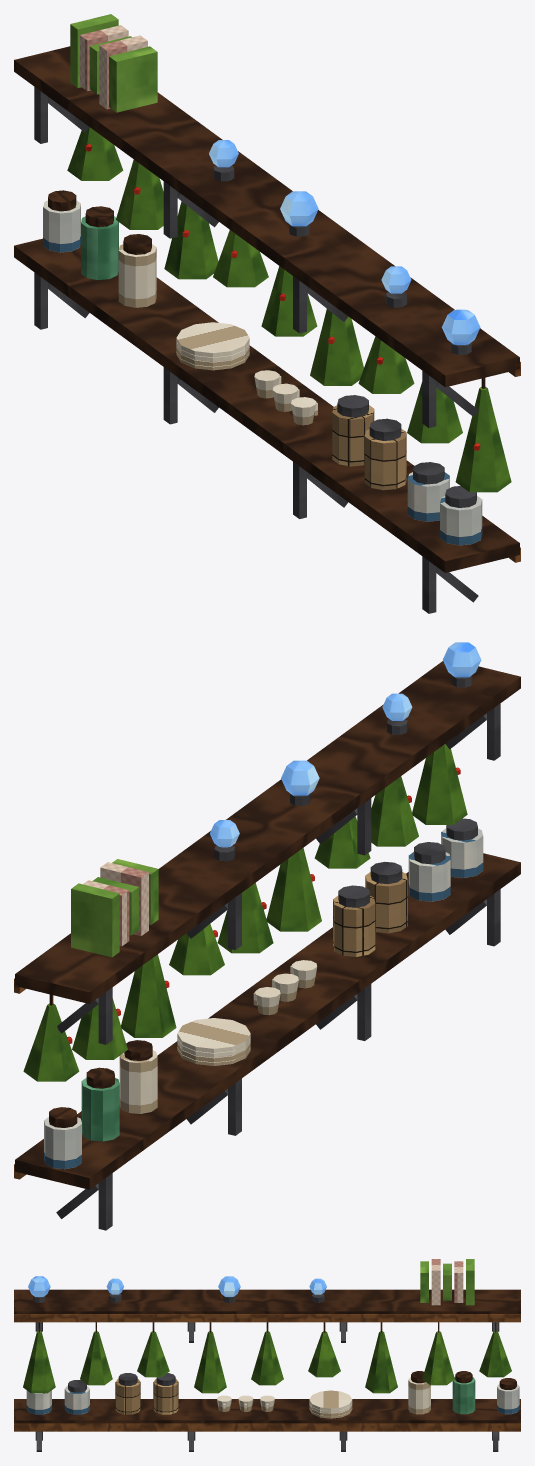
Rendered from shelf.glb.
3 views of the same model, one above another, from view 1: azimuth 30°, elevation 25°; view 2: azimuth 150°, elevation 25°; view 3: azimuth 270°, elevation 25° (orthographic). The views are drawn at different scales.
Visible parts, largest first — view 1: shelf__K_darkwood, shelf__K_herb, shelf__K_iron, shelf__K_cream, shelf__K_ceramic, shelf__K_cabbage, shelf__K_tile, shelf__K_magic, shelf__K_cloth, shelf__K_bottle; view 2: shelf__K_darkwood, shelf__K_herb, shelf__K_iron, shelf__K_cream, shelf__K_ceramic, shelf__K_cabbage, shelf__K_tile, shelf__K_magic, shelf__K_cloth, shelf__K_bottle; view 3: shelf__K_darkwood, shelf__K_herb, shelf__K_oak, shelf__K_cream, shelf__K_iron, shelf__K_ceramic, shelf__K_tile, shelf__K_magic, shelf__K_cabbage, shelf__K_cloth, shelf__K_bottle.
Boxes of the visible parts, x1=… form: shelf__K_darkwood: x1=14, y1=46, x2=519, y2=572; shelf__K_herb: x1=67, y1=127, x2=511, y2=492; shelf__K_iron: x1=34, y1=87, x2=478, y2=613; shelf__K_cream: x1=118, y1=244, x2=317, y2=425; shelf__K_ceramic: x1=43, y1=200, x2=482, y2=545; shelf__K_cabbage: x1=70, y1=14, x2=157, y2=112; shelf__K_tile: x1=332, y1=405, x2=406, y2=490; shelf__K_magic: x1=209, y1=140, x2=480, y2=344; shelf__K_cloth: x1=80, y1=25, x2=147, y2=109; shelf__K_bottle: x1=81, y1=216, x2=118, y2=279; shelf__K_darkwood: x1=15, y1=661, x2=520, y2=1189; shelf__K_herb: x1=23, y1=744, x2=467, y2=1081; shelf__K_iron: x1=56, y1=675, x2=500, y2=1230; shelf__K_cream: x1=119, y1=960, x2=317, y2=1113; shelf__K_ceramic: x1=44, y1=828, x2=483, y2=1169; shelf__K_cabbage: x1=71, y1=859, x2=158, y2=957; shelf__K_tile: x1=333, y1=872, x2=407, y2=956; shelf__K_magic: x1=210, y1=642, x2=481, y2=847; shelf__K_cloth: x1=83, y1=862, x2=148, y2=946; shelf__K_bottle: x1=81, y1=1077, x2=119, y2=1141; shelf__K_darkwood: x1=14, y1=1289, x2=520, y2=1423; shelf__K_herb: x1=23, y1=1331, x2=511, y2=1393; shelf__K_oak: x1=14, y1=1314, x2=520, y2=1431; shelf__K_cream: x1=217, y1=1377, x2=430, y2=1418; shelf__K_iron: x1=33, y1=1293, x2=499, y2=1451; shelf__K_ceramic: x1=26, y1=1383, x2=519, y2=1414; shelf__K_tile: x1=115, y1=1378, x2=178, y2=1414; shelf__K_magic: x1=28, y1=1276, x2=326, y2=1296; shelf__K_cabbage: x1=420, y1=1259, x2=474, y2=1305; shelf__K_cloth: x1=431, y1=1259, x2=463, y2=1305; shelf__K_bottle: x1=452, y1=1377, x2=475, y2=1414.
Bounding box in the file's own units: 0.4326 × 1.6 × 4.
12 materials, 12 textured.
